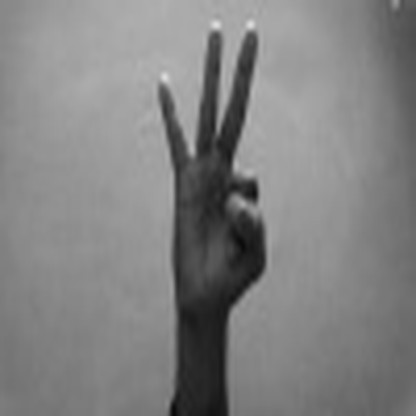f: (148, 15, 290, 291)
